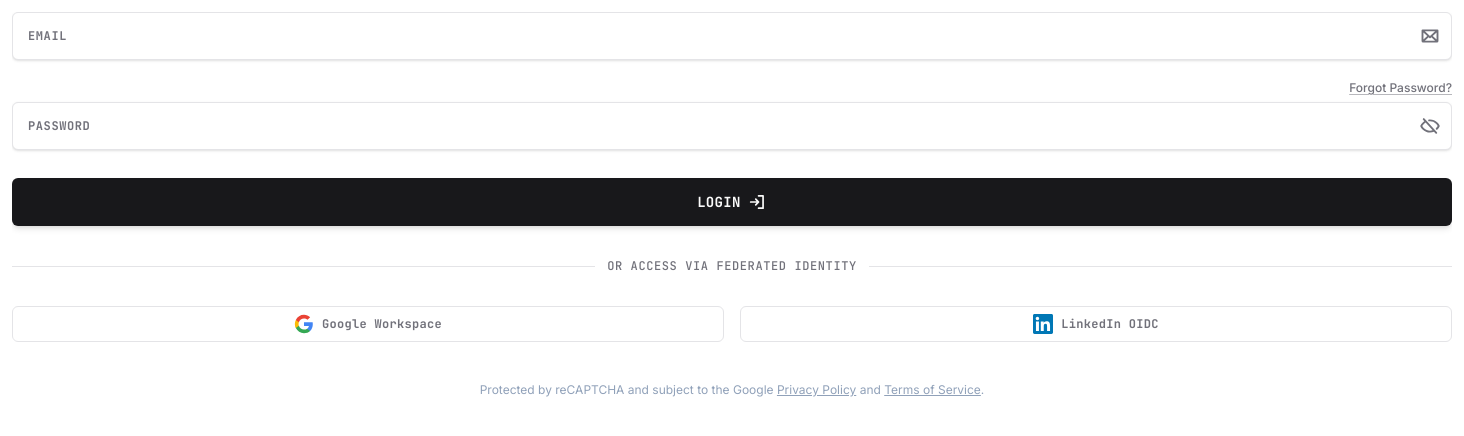
Test: LoginForm › validation › shows invalid email error for bad format
In the field labelled "Email": (732, 36) [12,12,1452,60], type "not-an-email"
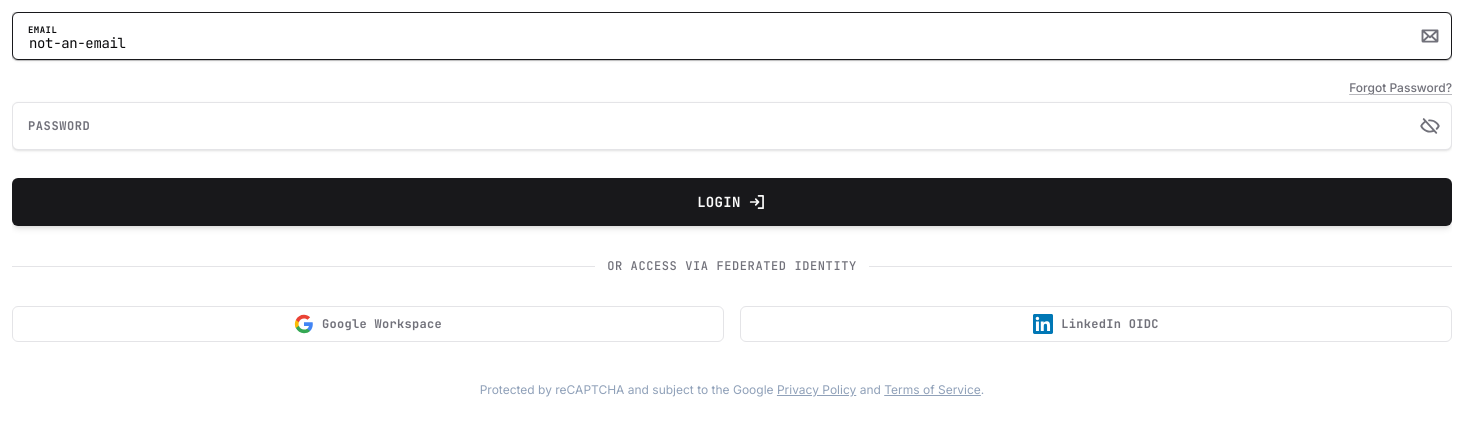
Press Tab
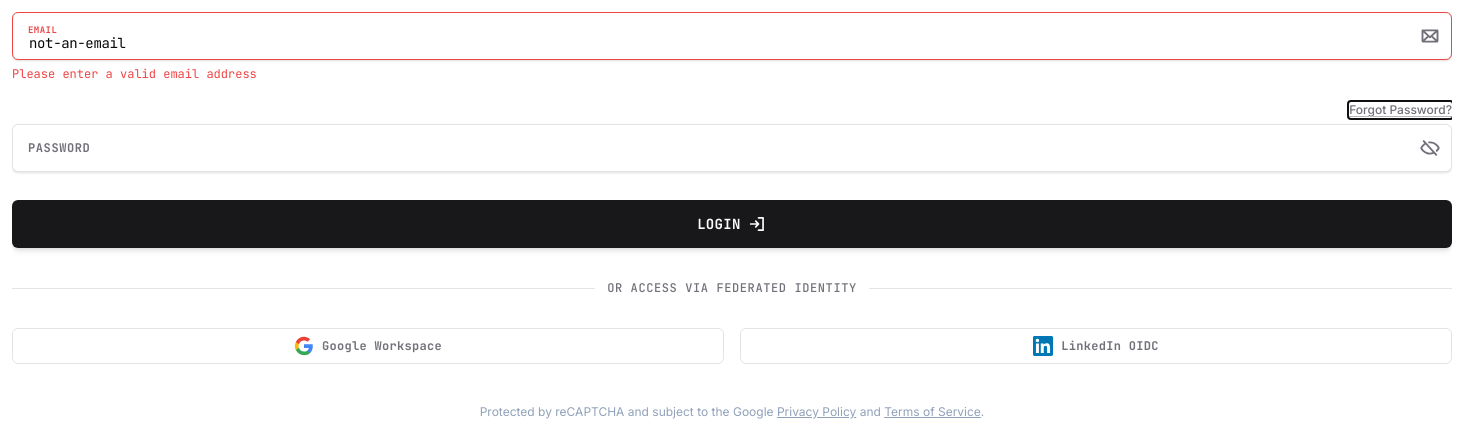
expect the text "Please enter a valid email address" is shown: met, box [12,66,257,82]
